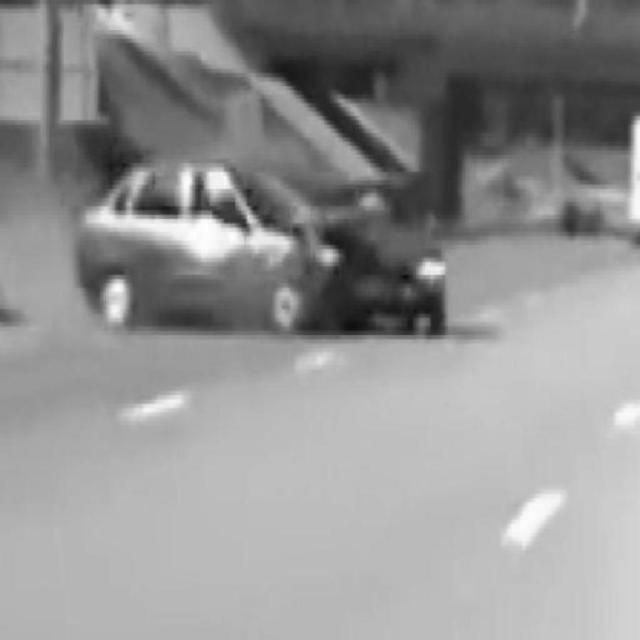accident: (75, 154, 447, 334)
